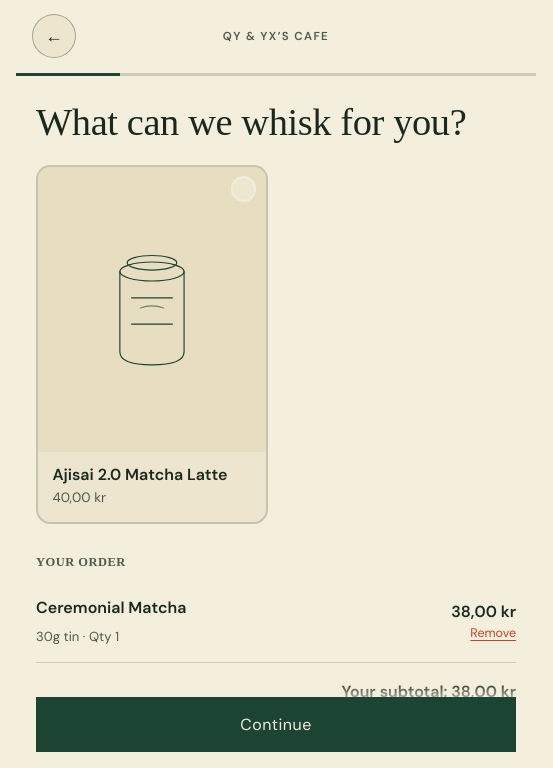
it: OrderFlowPage › shows a full-checkout notice instead of payment options when the cart needs shipping
Click the button "Continue" at (276, 724), box [36,697,516,752]
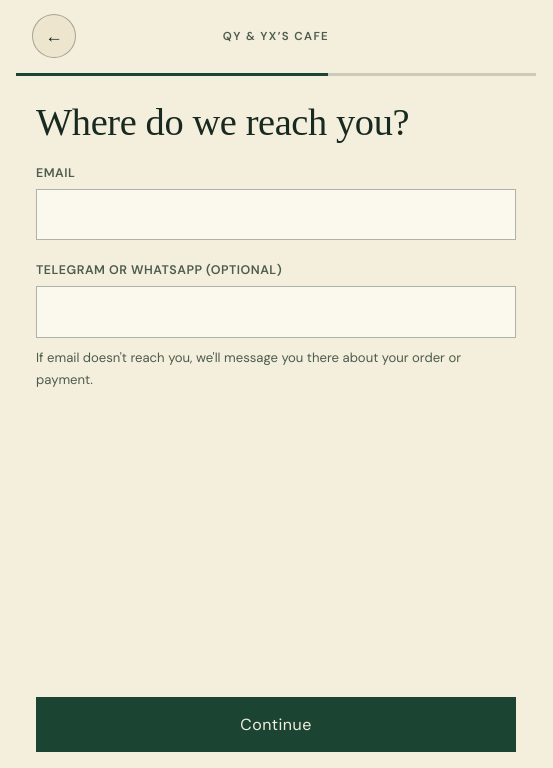
Type "shopper@example.com" into the field labelled "Email" at (276, 214), box [36,189,516,240]
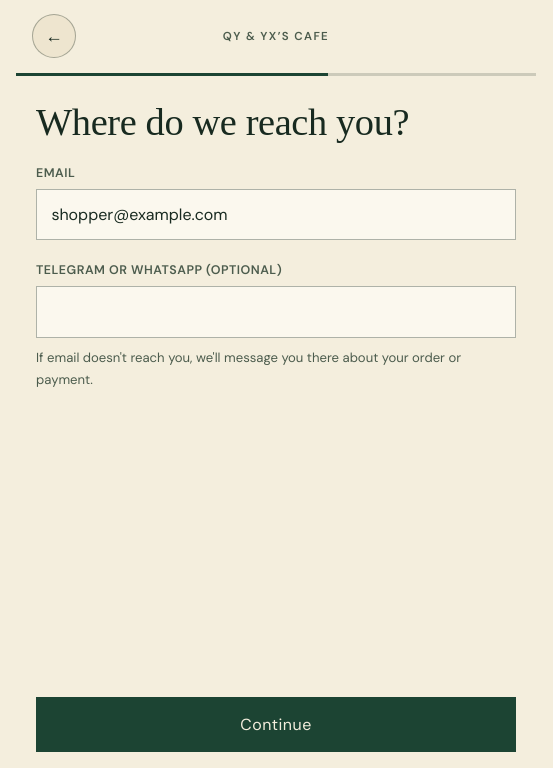
Click the button "Continue" at (276, 724), box [36,697,516,752]
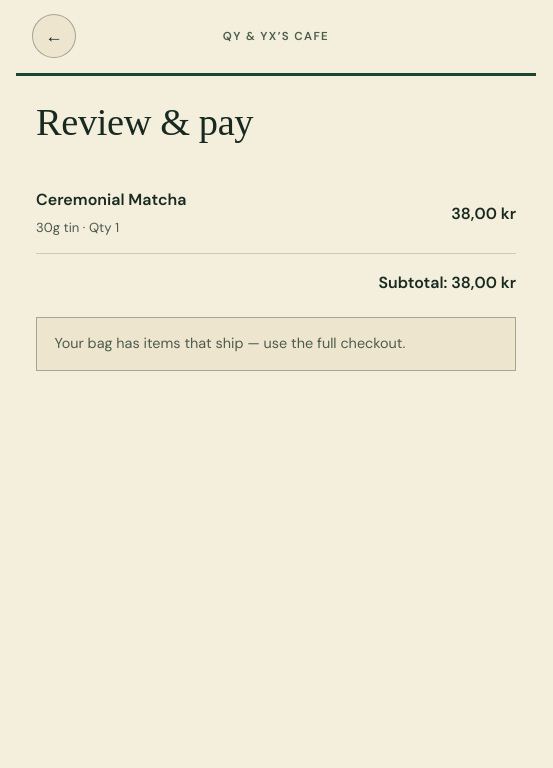
Expected: the text "Your bag has items that ship — use the full checkout ." is shown, [36,317,516,371]
